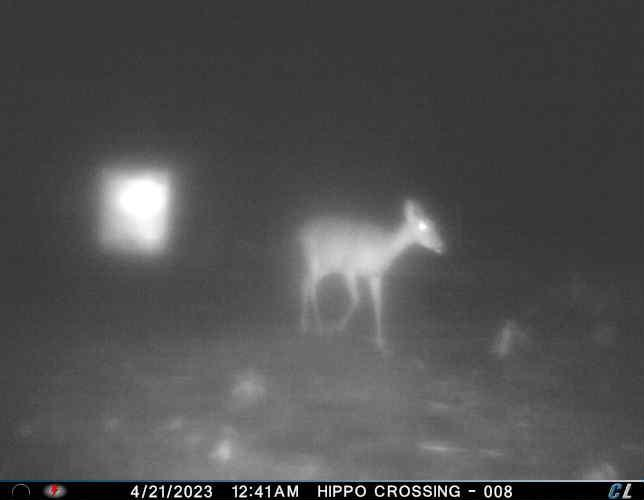Deer: (290, 193, 451, 351)
